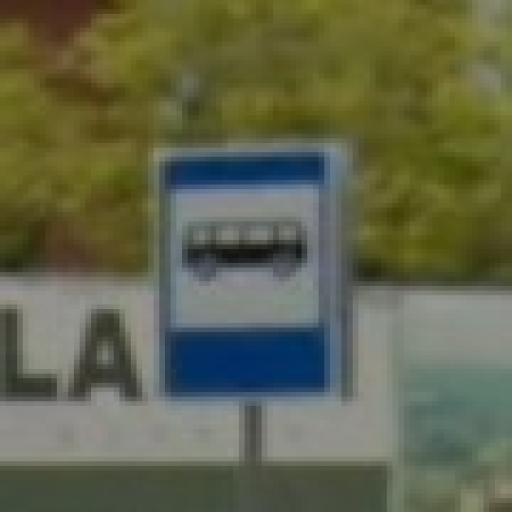traffic_sign: (149, 144, 348, 407)
